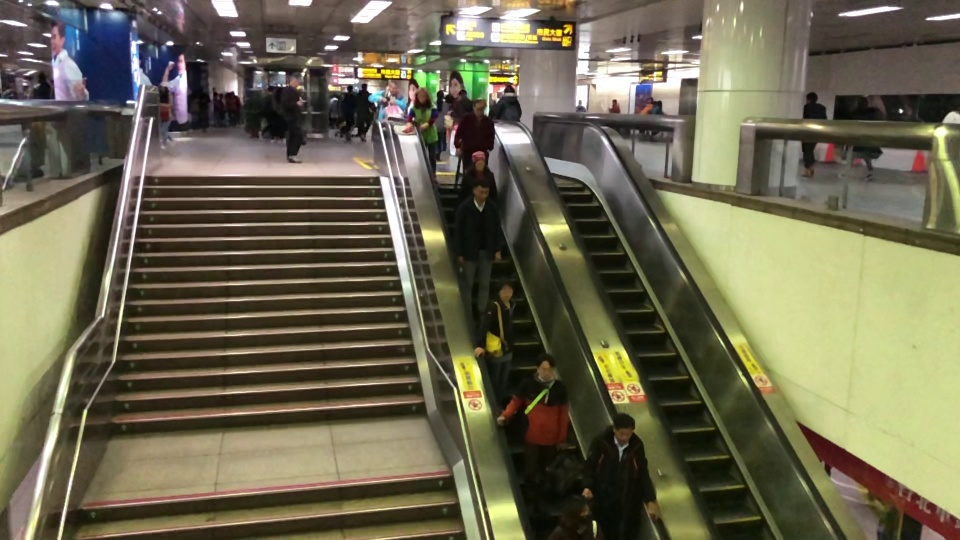person_head: (565, 495, 593, 525), (612, 412, 635, 445), (535, 353, 555, 379), (471, 179, 490, 200), (497, 278, 513, 300), (415, 88, 429, 104), (473, 99, 486, 116), (473, 154, 485, 170), (387, 80, 398, 96), (805, 90, 818, 103), (857, 95, 869, 107), (503, 84, 516, 92), (289, 76, 298, 87), (456, 89, 466, 97), (37, 71, 45, 80), (436, 89, 444, 97), (160, 82, 167, 90), (267, 85, 274, 92), (360, 82, 367, 89), (347, 84, 353, 91), (658, 99, 663, 107), (647, 97, 651, 103), (578, 98, 581, 104), (612, 99, 616, 103)
person_vbox: (494, 352, 569, 521), (580, 412, 662, 525), (451, 179, 502, 319), (474, 278, 514, 399), (839, 95, 885, 183), (405, 87, 439, 175), (454, 98, 496, 167), (546, 496, 603, 540), (800, 91, 828, 178), (281, 75, 306, 166), (454, 154, 498, 205), (367, 79, 405, 119), (334, 83, 355, 145), (355, 82, 375, 142), (158, 82, 174, 150), (493, 84, 522, 121), (258, 84, 275, 143), (434, 87, 447, 162), (449, 89, 473, 121), (31, 72, 53, 99), (638, 96, 651, 115), (608, 98, 620, 113), (651, 99, 663, 114), (575, 97, 585, 111)
